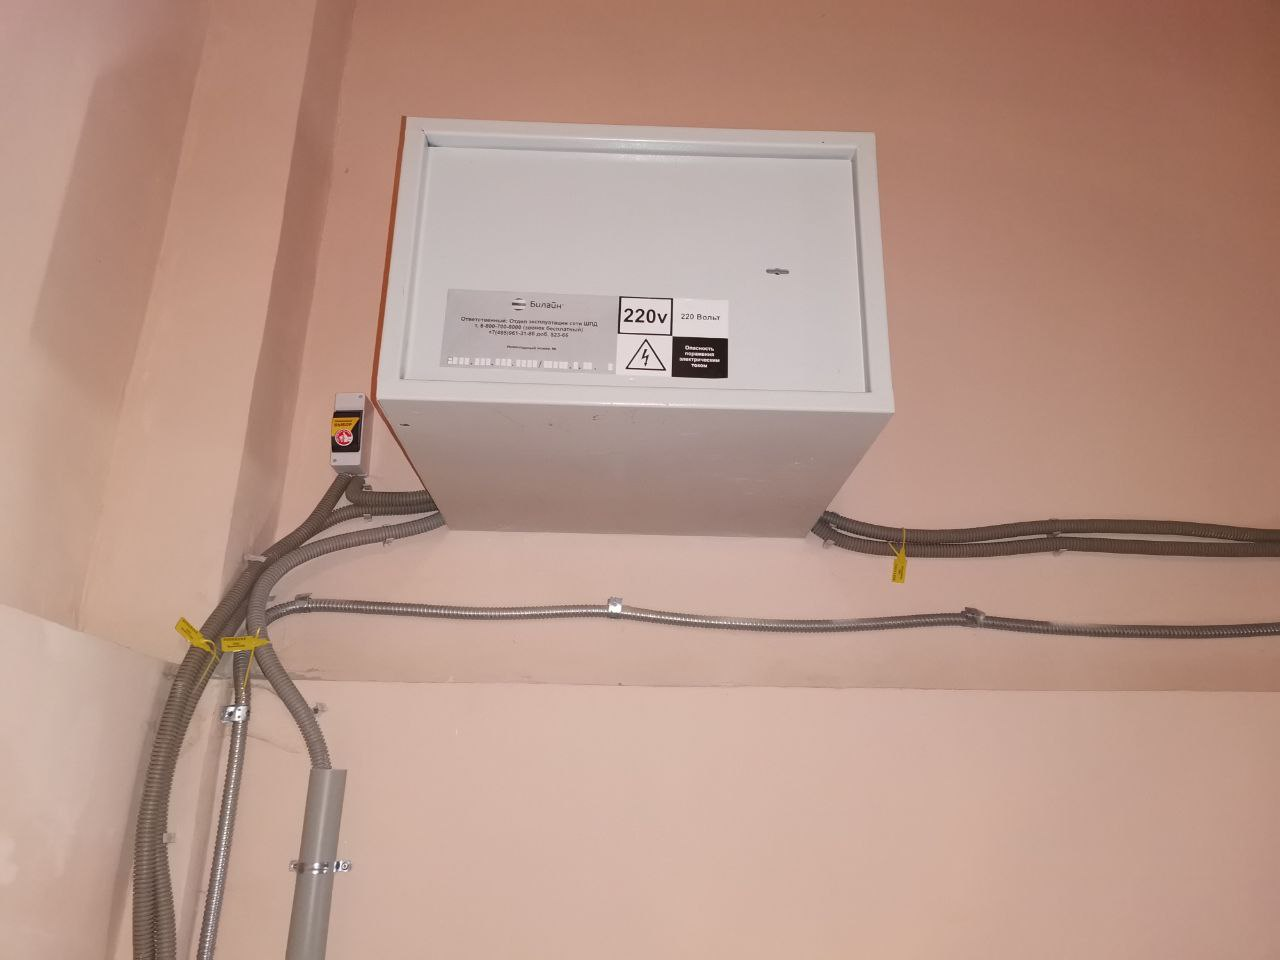shta-7m: (369, 107, 904, 546)
